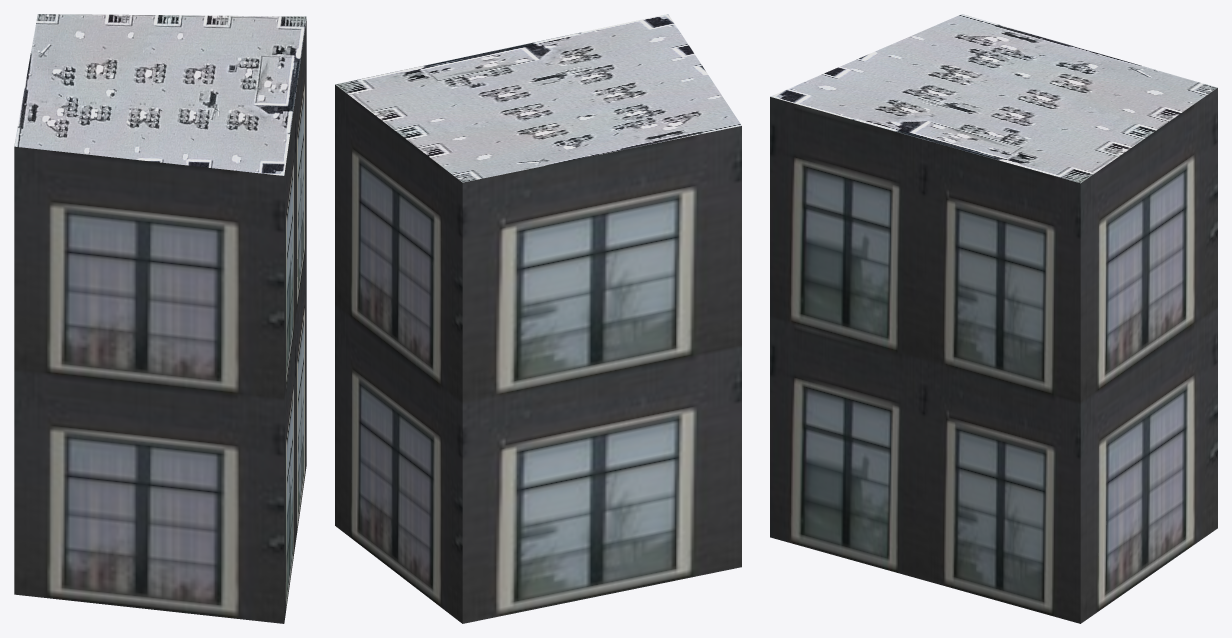
File: ResTex__687.fbx
3 views of the same model, side by side, from view 1: azimuth 30°, elevation 25°; view 2: azimuth 150°, elevation 25°; view 3: azimuth 270°, elevation 25° (orthographic).
Visible parts, largest first — view 1: CityEngineMaterial_22_m, CityEngineMaterial_8_m; view 2: CityEngineMaterial_22_m, CityEngineMaterial_8_m; view 3: CityEngineMaterial_22_m, CityEngineMaterial_8_m.
Boxes of the visible parts, x1,y1,x2,y2 form: CityEngineMaterial_22_m: (14,19,306,623); CityEngineMaterial_8_m: (14,14,306,175); CityEngineMaterial_22_m: (335,84,741,623); CityEngineMaterial_8_m: (335,14,741,182); CityEngineMaterial_22_m: (770,88,1217,623); CityEngineMaterial_8_m: (770,14,1217,183).
Size of the model in its own units: 4.95 by 6 by 5.53.
2 materials, 2 textured.
